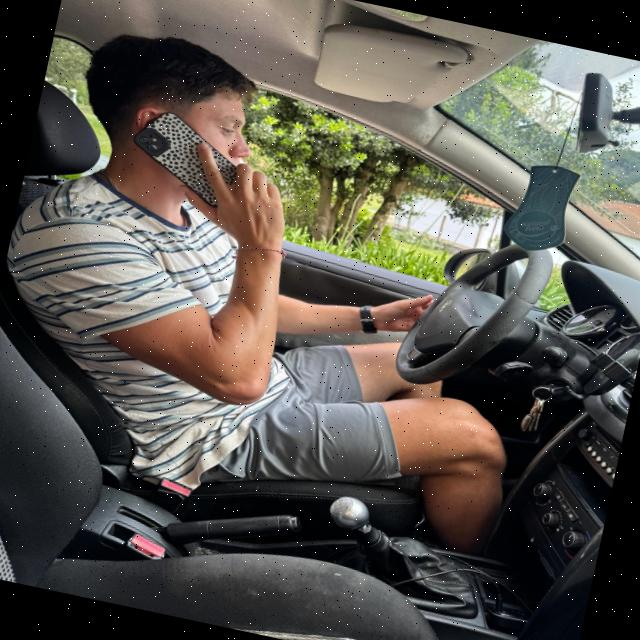Phone: (115, 100, 269, 220)
